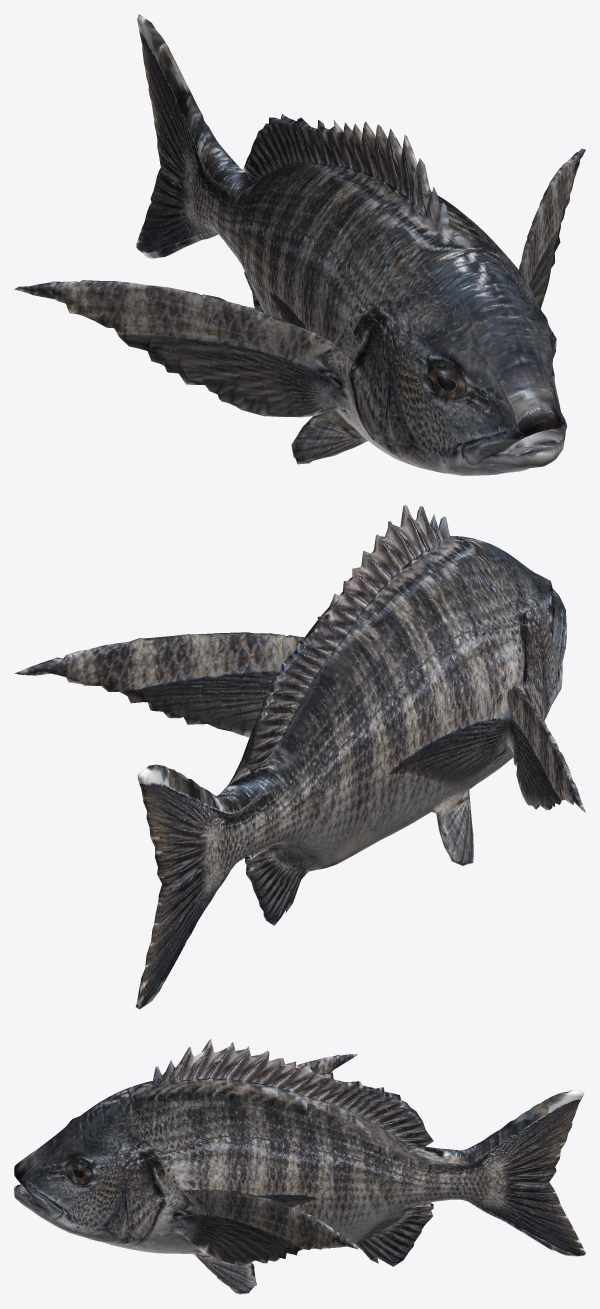
File: fish_porgy.glb
3 renders of one model, top to bottom at view 1: azimuth 30°, elevation 25°; view 2: azimuth 150°, elevation 25°; view 3: azimuth 270°, elevation 25°, orthographic. The views are drawn at different scales.
Parts seen in each view (by area): view 1: geometry_0; view 2: geometry_0; view 3: geometry_0.
Part boxes in pixels (x1,y1,x2,y2): geometry_0: (14, 14, 585, 475); geometry_0: (14, 504, 585, 1009); geometry_0: (14, 1039, 585, 1294).
Bounding box in the file's own units: 1.58 × 0.86 × 1.95.
1 material, 1 textured.
